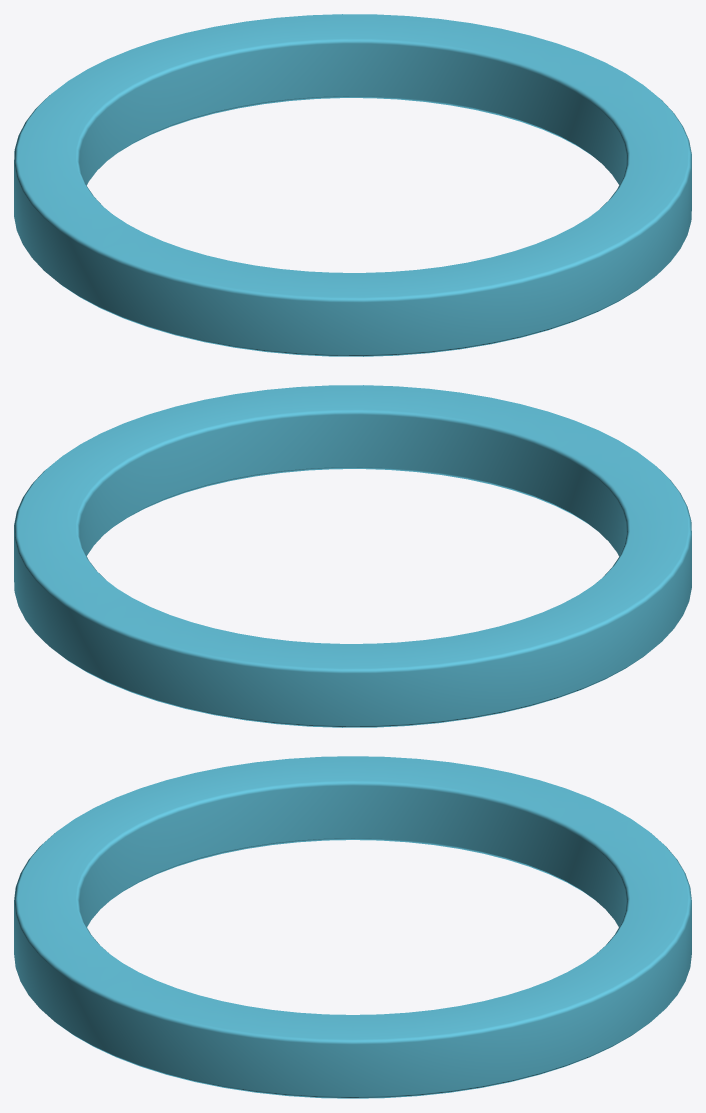
3 views of the same model, one above another, from view 1: azimuth 30°, elevation 25°; view 2: azimuth 150°, elevation 25°; view 3: azimuth 270°, elevation 25° (orthographic).
Parts seen in each view (by area): view 1: seal_body; view 2: seal_body; view 3: seal_body.
Boxes of the visible parts, x1,y1,x2,y2 form: seal_body: (14,14,691,356); seal_body: (14,385,691,727); seal_body: (14,756,691,1098).
Size of the model in its own units: 0.0984 by 0.00952 by 0.0984.
